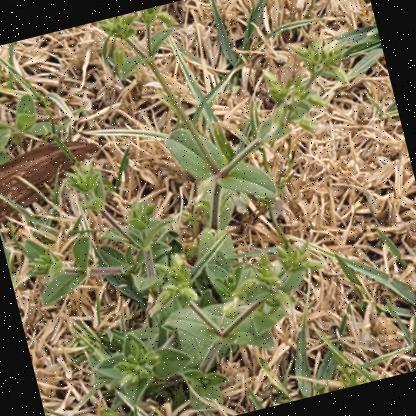Weeds: (0, 0, 415, 415), (0, 88, 59, 174)
